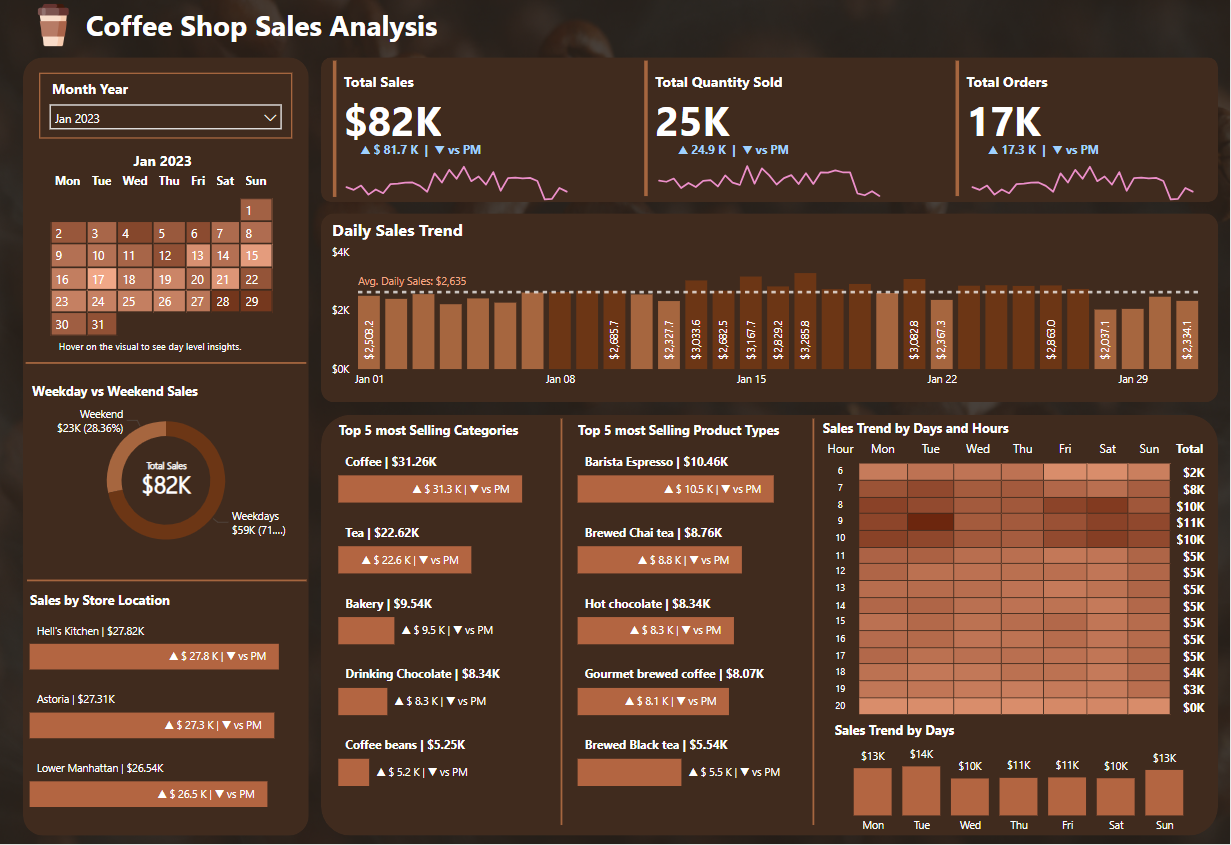

The dashboard page shown, as its layout file describes it:
{"tool":"powerbi","page":{"name":"Coffee Sales Dashboard","canvas":[1400,960],"ordinal":0},"visuals":[{"type":"cardVisual","fields":{"Data":["Sum(fact_transactions.sales_amount)"]},"box":[365.9,64.3,300,165.3],"z":0,"group":"g1"},{"type":"cardVisual","fields":{"Data":["Sum(fact_transactions.transaction_qty)"]},"box":[720.1,64.3,300,164.3],"z":0,"group":"g2"},{"type":"cardVisual","fields":{"Data":["fact_transactions.cm_orders"]},"box":[1074.3,64.3,300,164.3],"z":0,"group":"g3"},{"type":"pivotTable","fields":{"Rows":["fact_transactions.week_num"],"Columns":["fact_transactions.Day"],"Values":["Min(fact_transactions.day_num)"]},"box":[33.9,209.1,305.5,182.7],"z":0,"group":"g4"},{"type":"shape","box":[27.5,65,325,885],"z":1000},{"type":"lineChart","fields":{"Y":["Sum(fact_transactions.sales_amount)"],"Category":["dim_date.Date"]},"box":[735.8,169.6,280.5,64.5],"z":1000,"group":"g2"},{"type":"lineChart","fields":{"Y":["Sum(fact_transactions.sales_amount)"],"Category":["dim_date.Date"]},"box":[1092.1,169.7,280.5,64.5],"z":1000,"group":"g3"},{"type":"lineChart","fields":{"Y":["Sum(fact_transactions.sales_amount)"],"Category":["dim_date.Date"]},"box":[380,170,280.5,64.5],"z":1000,"group":"g1"},{"type":"card","fields":{"Values":["Min(dim_date.month_year)"]},"box":[124.8,172.7,123.6,50],"z":1000,"group":"g4"},{"type":"textbox","title":"Coffee Shop Sales Analysis","box":[93.7,7,968.2,188.5],"z":1500},{"type":"shape","box":[365.9,65.3,1020,164.8],"z":2000},{"type":"card","fields":{"Values":["fact_transactions.orders_mom_diff"]},"box":[1080,147.2,215.7,51.4],"z":2000,"group":"g3"},{"type":"card","fields":{"Values":["fact_transactions.quantity_mom_diff"]},"box":[727.8,147.6,215.5,50.5],"z":2000,"group":"g2"},{"type":"card","fields":{"Values":["fact_transactions.sales_mom_diff"]},"box":[372,148,215.5,50.5],"z":2000,"group":"g1"},{"type":"slicer","fields":{"Values":["dim_date.month_year"]},"box":[45.6,83,287.5,74.8],"z":4000},{"type":"group","id":"g1","title":"Group 1","box":[365.9,64.3,300,170.2],"z":5000},{"type":"group","id":"g2","title":"Group 2","box":[720.1,64.3,300,169.8],"z":6000},{"type":"group","id":"g3","title":"Group 3","box":[1074.3,64.3,300,169.9],"z":7000},{"type":"group","id":"g4","title":"Group 4","box":[33.9,172.7,305.5,219.1],"z":8000},{"type":"textbox","box":[63.2,378,266,28],"z":9000},{"type":"shape","box":[30.4,400.8,319,23.4],"z":10000},{"type":"donutChart","title":"Weekday vs Weekend Sales","fields":{"Y":["Sum(fact_transactions.sales_amount)"],"Category":["dim_date.Day Name"]},"box":[32.7,433.6,315.5,206.8],"z":11000},{"type":"shape","box":[31.6,648.6,317.9,22.2],"z":12000},{"type":"card","title":"Total Sales","fields":{"Values":["Sum(fact_transactions.sales_amount)"]},"box":[130.9,516.5,109.8,56.1],"z":13000},{"type":"clusteredBarChart","title":"Sales by Store Location","fields":{"Category":["fact_transactions.store_location"],"Y":["fact_transactions.Placeholder","Sum(fact_transactions.sales_amount)"]},"box":[30.4,670.8,320.8,256.4],"z":14000},{"type":"shape","box":[366.2,242.5,1020,215],"z":15000},{"type":"clusteredColumnChart","title":"Daily Sales Trend","fields":{"Category":["fact_transactions.transaction_date"],"Y":["Sum(fact_transactions.sales_amount)"]},"box":[373.8,248.8,1001.2,202.5],"z":16000},{"type":"shape","box":[366.2,471.2,1020,478.8],"z":17000},{"type":"clusteredBarChart","title":"Top 5 most Selling Categories","fields":{"Y":["fact_transactions.Placeholder","Sum(fact_transactions.sales_amount)"],"Category":["fact_transactions.product_category"]},"box":[381,477.5,250.1,424.2],"z":18000},{"type":"clusteredBarChart","title":"Top 5 most Selling Product Types","fields":{"Y":["fact_transactions.Placeholder","Sum(fact_transactions.sales_amount)"],"Category":["fact_transactions.product_type"]},"box":[653.3,477.5,267.6,424.2],"z":19000},{"type":"shape","box":[631.2,476.2,16.2,462.5],"z":20000},{"type":"shape","box":[921.2,476.2,10,462.5],"z":21000},{"type":"pivotTable","title":"Sales Trend by Days and Hours","fields":{"Rows":["fact_transactions.Hour"],"Columns":["fact_transactions.Day"],"Values":["Sum(fact_transactions.sales_amount)"]},"box":[931.2,477.5,455,326.2],"z":22000},{"type":"image","box":[28.8,0,66.2,57.5],"z":23000},{"type":"clusteredColumnChart","title":"Sales Trend by Days","fields":{"Category":["fact_transactions.Day"],"Y":["Sum(fact_transactions.sales_amount)"]},"box":[945,810,430,140],"z":24000}]}

Visuals, with their boxes in screenshot pixels (x1, y1, x2, y2), scaled from the page's 1400x960 canvas onto the 1231x845 screenshot:
cardVisual - Sum(fact_transactions.sales_amount): 322,57,586,202
cardVisual - Sum(fact_transactions.transaction_qty): 633,57,897,201
cardVisual - fact_transactions.cm_orders: 945,57,1208,201
pivotTable - fact_transactions.week_num x fact_transactions.Day: 30,184,298,345
shape: 24,57,310,836
lineChart - Sum(fact_transactions.sales_amount) x dim_date.Date: 647,149,894,206
lineChart - Sum(fact_transactions.sales_amount) x dim_date.Date: 960,149,1207,206
lineChart - Sum(fact_transactions.sales_amount) x dim_date.Date: 334,150,581,206
card - Min(dim_date.month_year): 110,152,218,196
"Coffee Shop Sales Analysis" textbox: 82,6,934,172
shape: 322,57,1219,203
card - fact_transactions.orders_mom_diff: 950,130,1139,175
card - fact_transactions.quantity_mom_diff: 640,130,829,174
card - fact_transactions.sales_mom_diff: 327,130,517,175
slicer - dim_date.month_year: 40,73,293,139
"Group 1" group: 322,57,586,206
"Group 2" group: 633,57,897,206
"Group 3" group: 945,57,1208,206
"Group 4" group: 30,152,298,345
textbox: 56,333,289,357
shape: 27,353,307,373
"Weekday vs Weekend Sales" donutChart: 29,382,306,564
shape: 28,571,307,590
"Total Sales" card: 115,455,212,504
"Sales by Store Location" clusteredBarChart: 27,590,309,816
shape: 322,213,1219,403
"Daily Sales Trend" clusteredColumnChart: 329,219,1209,397
shape: 322,415,1219,836
"Top 5 most Selling Categories" clusteredBarChart: 335,420,555,794
"Top 5 most Selling Product Types" clusteredBarChart: 574,420,810,794
shape: 555,419,569,826
shape: 810,419,819,826
"Sales Trend by Days and Hours" pivotTable: 819,420,1219,707
image: 25,0,84,51
"Sales Trend by Days" clusteredColumnChart: 831,713,1209,836
